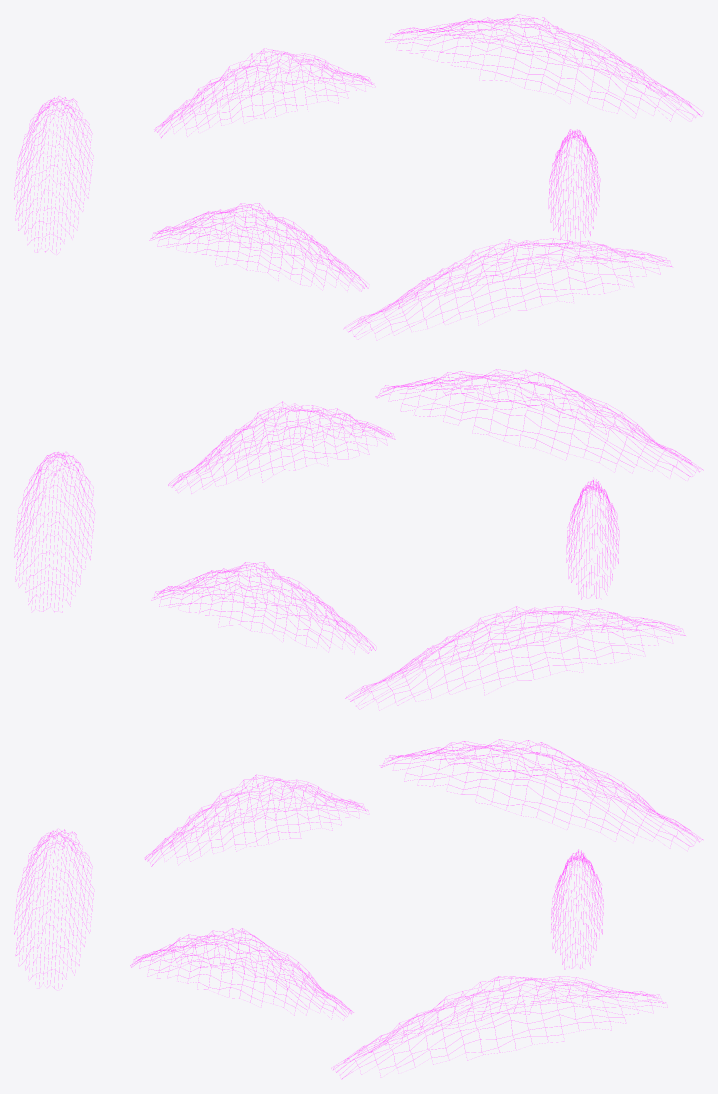
Rendered from Arena_V03_mountain3.fbx.
3 renders of one model, top to bottom at view 1: azimuth 30°, elevation 25°; view 2: azimuth 150°, elevation 25°; view 3: azimuth 270°, elevation 25°, orthographic. The views are drawn at different scales.
Visible parts, largest first — view 1: Arena_3_BG mountains_3; view 2: Arena_3_BG mountains_3; view 3: Arena_3_BG mountains_3.
Part boxes in pixels (bbox=[...]): Arena_3_BG mountains_3: bbox=[14, 14, 703, 340]; Arena_3_BG mountains_3: bbox=[14, 369, 703, 710]; Arena_3_BG mountains_3: bbox=[14, 739, 703, 1079].
Size of the model in its own units: 108563 by 10068 by 98493.
